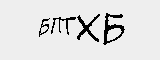Б: (101, 12, 126, 47), (37, 15, 50, 40)
П: (49, 15, 61, 37)
Т: (60, 16, 78, 37)
Х: (78, 11, 100, 41)
